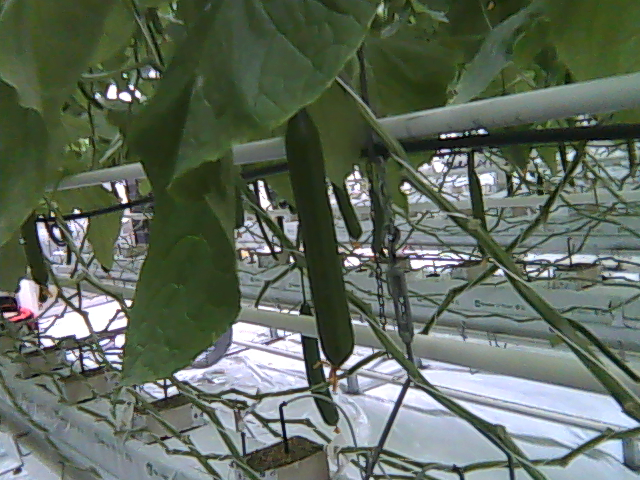concombre: (283, 105, 357, 395)
